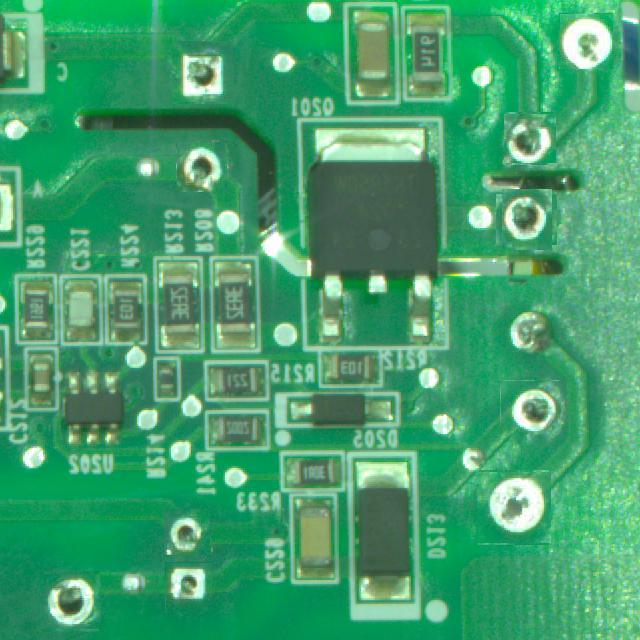lack_of_part: (477, 471, 550, 544), (172, 42, 234, 103), (42, 572, 100, 631), (500, 380, 561, 434), (498, 192, 554, 248), (559, 13, 613, 69), (504, 113, 555, 164), (177, 142, 226, 192), (165, 562, 212, 611), (164, 509, 211, 555)
